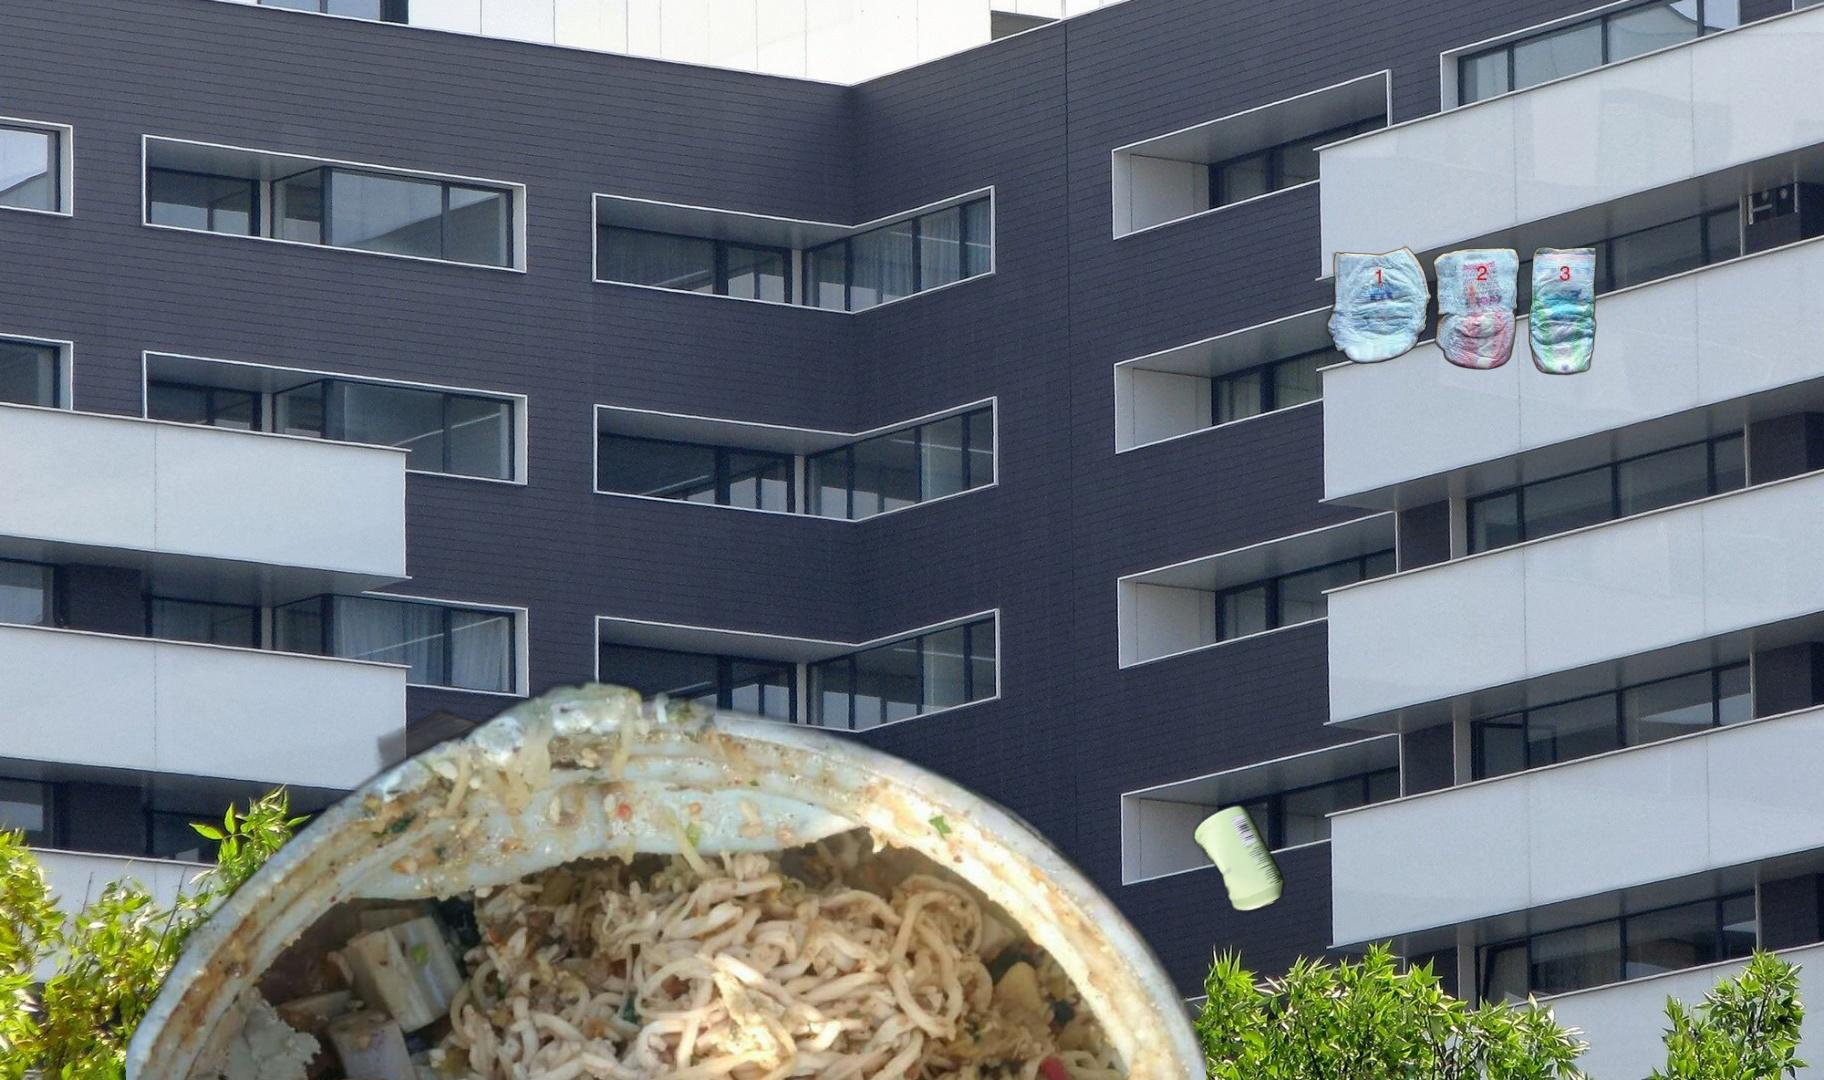battery: (879, 984, 1042, 1080)
biological: (126, 667, 1206, 1080)
metal-cans: (1189, 798, 1289, 917)
plastic-bottles: (139, 1041, 201, 1080)
trash: (1323, 244, 1600, 378)
trashbox-cardboard: (172, 634, 729, 1014)
